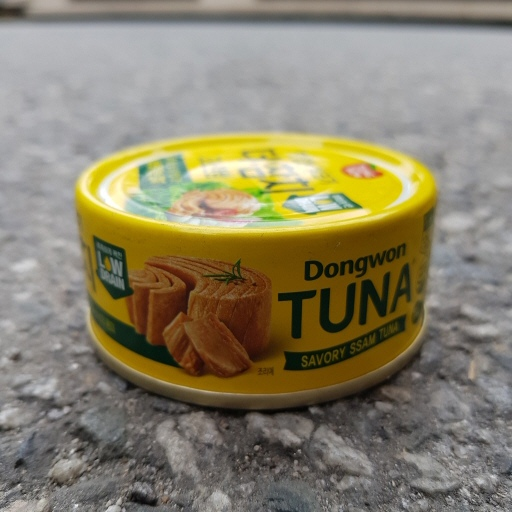Metal_1: (73, 133, 439, 416)
